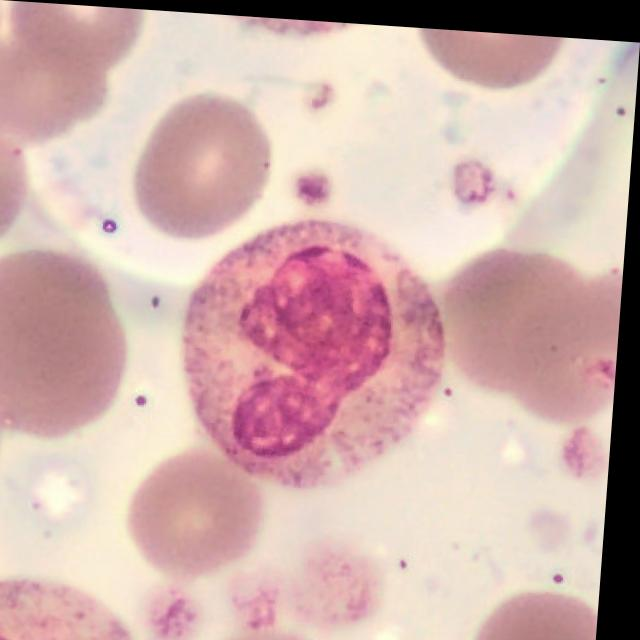Bastonete: (185, 215, 452, 485)
